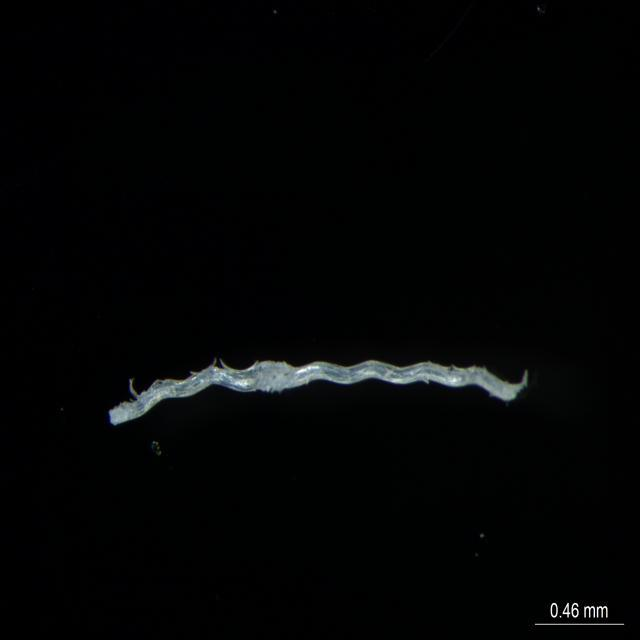fibers: (106, 345, 530, 426)
